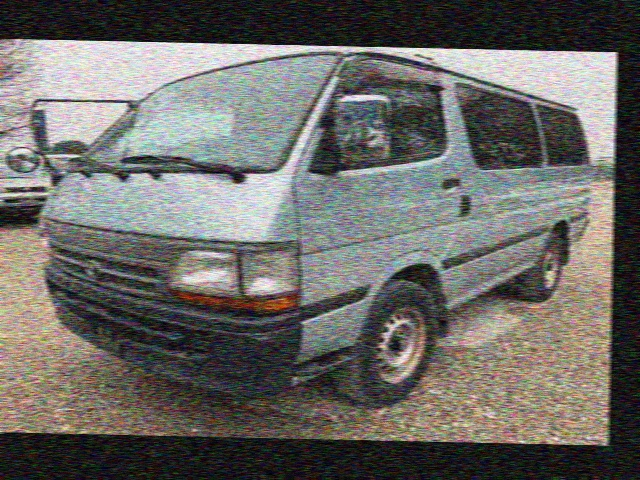van: (29, 45, 595, 409)
